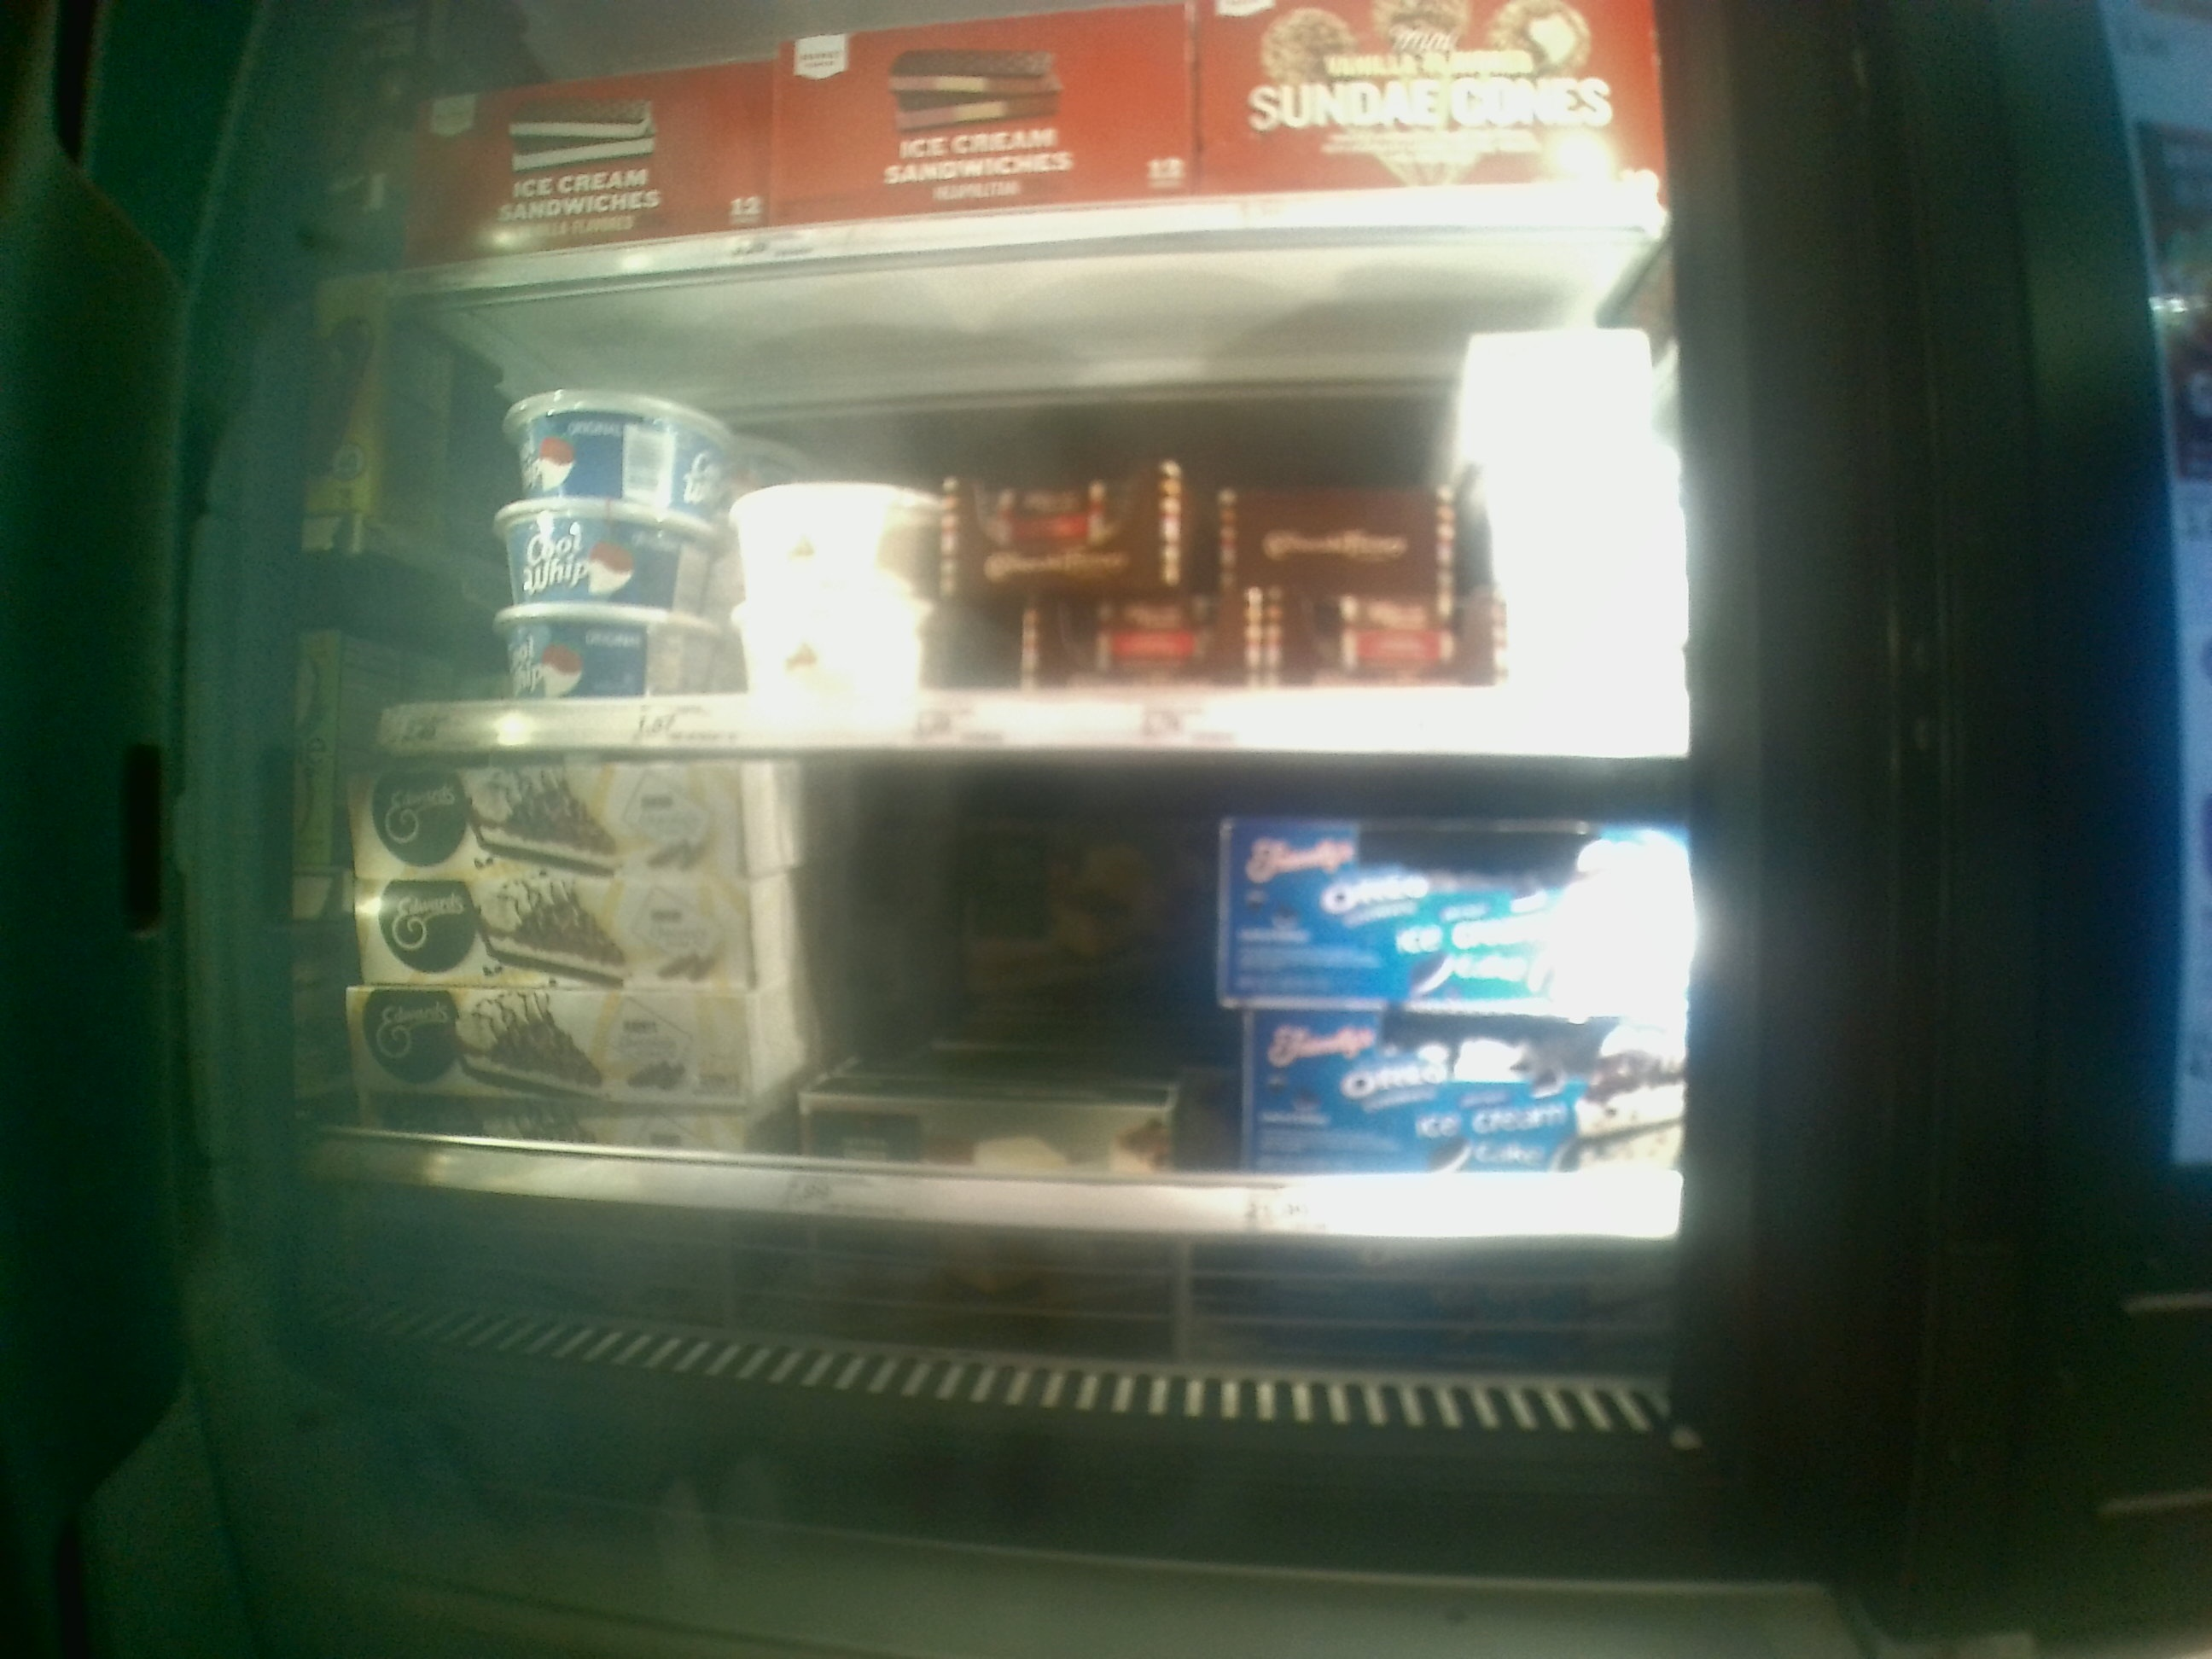shelf: (326, 753, 1712, 1366), (326, 295, 1714, 753)
